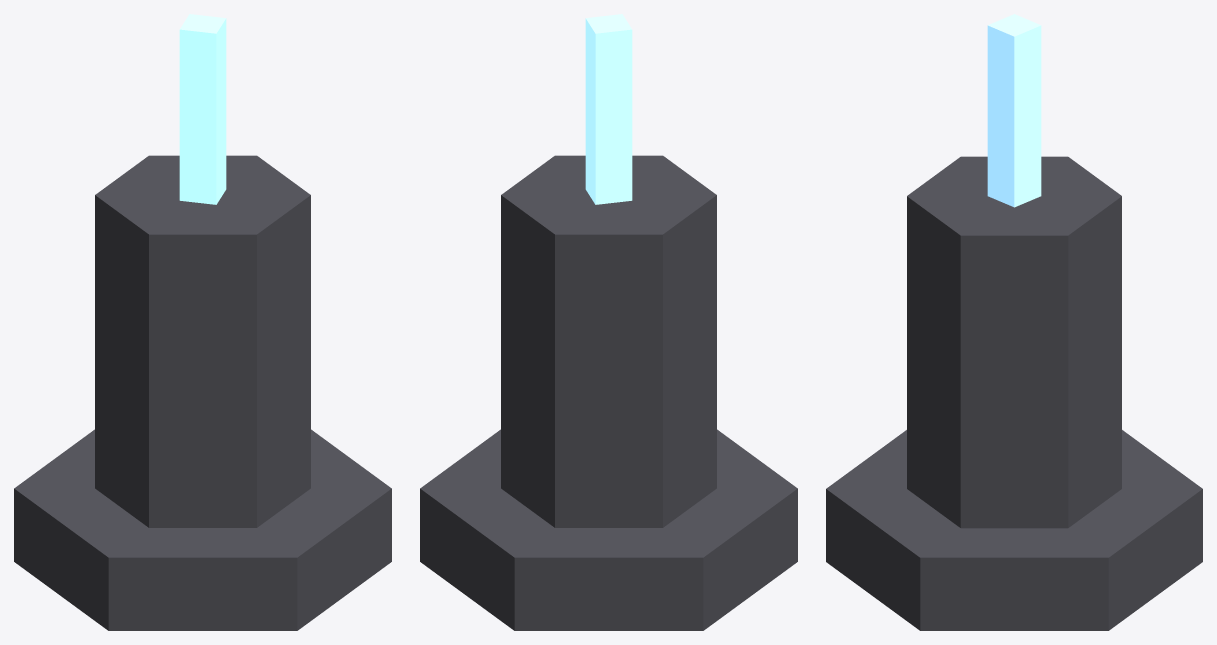
Rendered from tower_sniper_lod1.glb.
3 renders of one model, left to right at view 1: azimuth 30°, elevation 25°; view 2: azimuth 150°, elevation 25°; view 3: azimuth 270°, elevation 25°, orthographic.
Visible parts, largest first — view 1: tower_sniper_lod1; view 2: tower_sniper_lod1; view 3: tower_sniper_lod1.
Part boxes in pixels (x1=…): tower_sniper_lod1: x1=14, y1=14, x2=391, y2=630; tower_sniper_lod1: x1=420, y1=14, x2=797, y2=630; tower_sniper_lod1: x1=826, y1=14, x2=1202, y2=630.
Size of the model in its own units: 0.6062 by 1.1 by 0.7.
